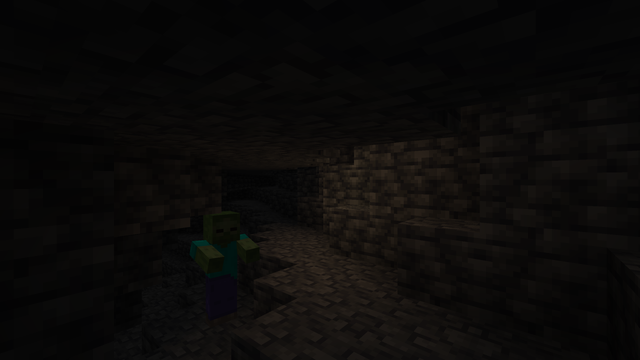zombies: (198, 212, 244, 332)
